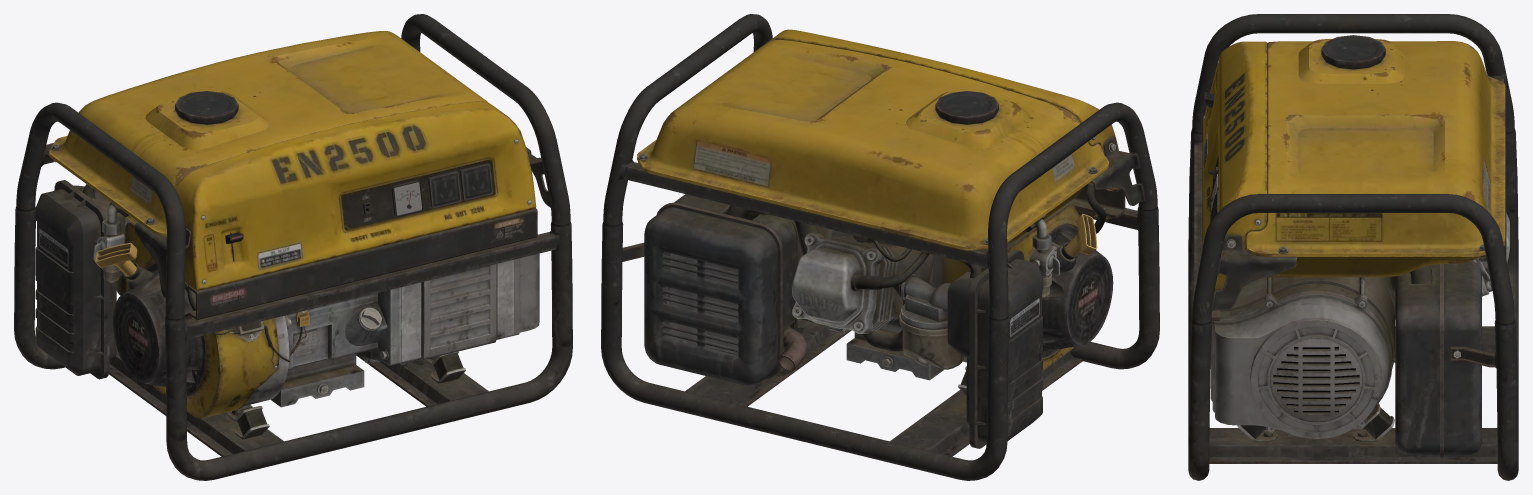
Rendered from portable_generator.glb.
3 renders of one model, left to right at view 1: azimuth 30°, elevation 25°; view 2: azimuth 150°, elevation 25°; view 3: azimuth 270°, elevation 25°, orthographic.
Parts seen in each view (by area): view 1: portable_generator; view 2: portable_generator; view 3: portable_generator.
Boxes of the visible parts, x1,y1,x2,y2 form: portable_generator: [14, 14, 572, 480]; portable_generator: [601, 14, 1159, 480]; portable_generator: [1188, 14, 1518, 480].
Size of the model in its own units: 0.8183 by 0.577 by 0.564.
Materials: 2 (2 with a texture image).
